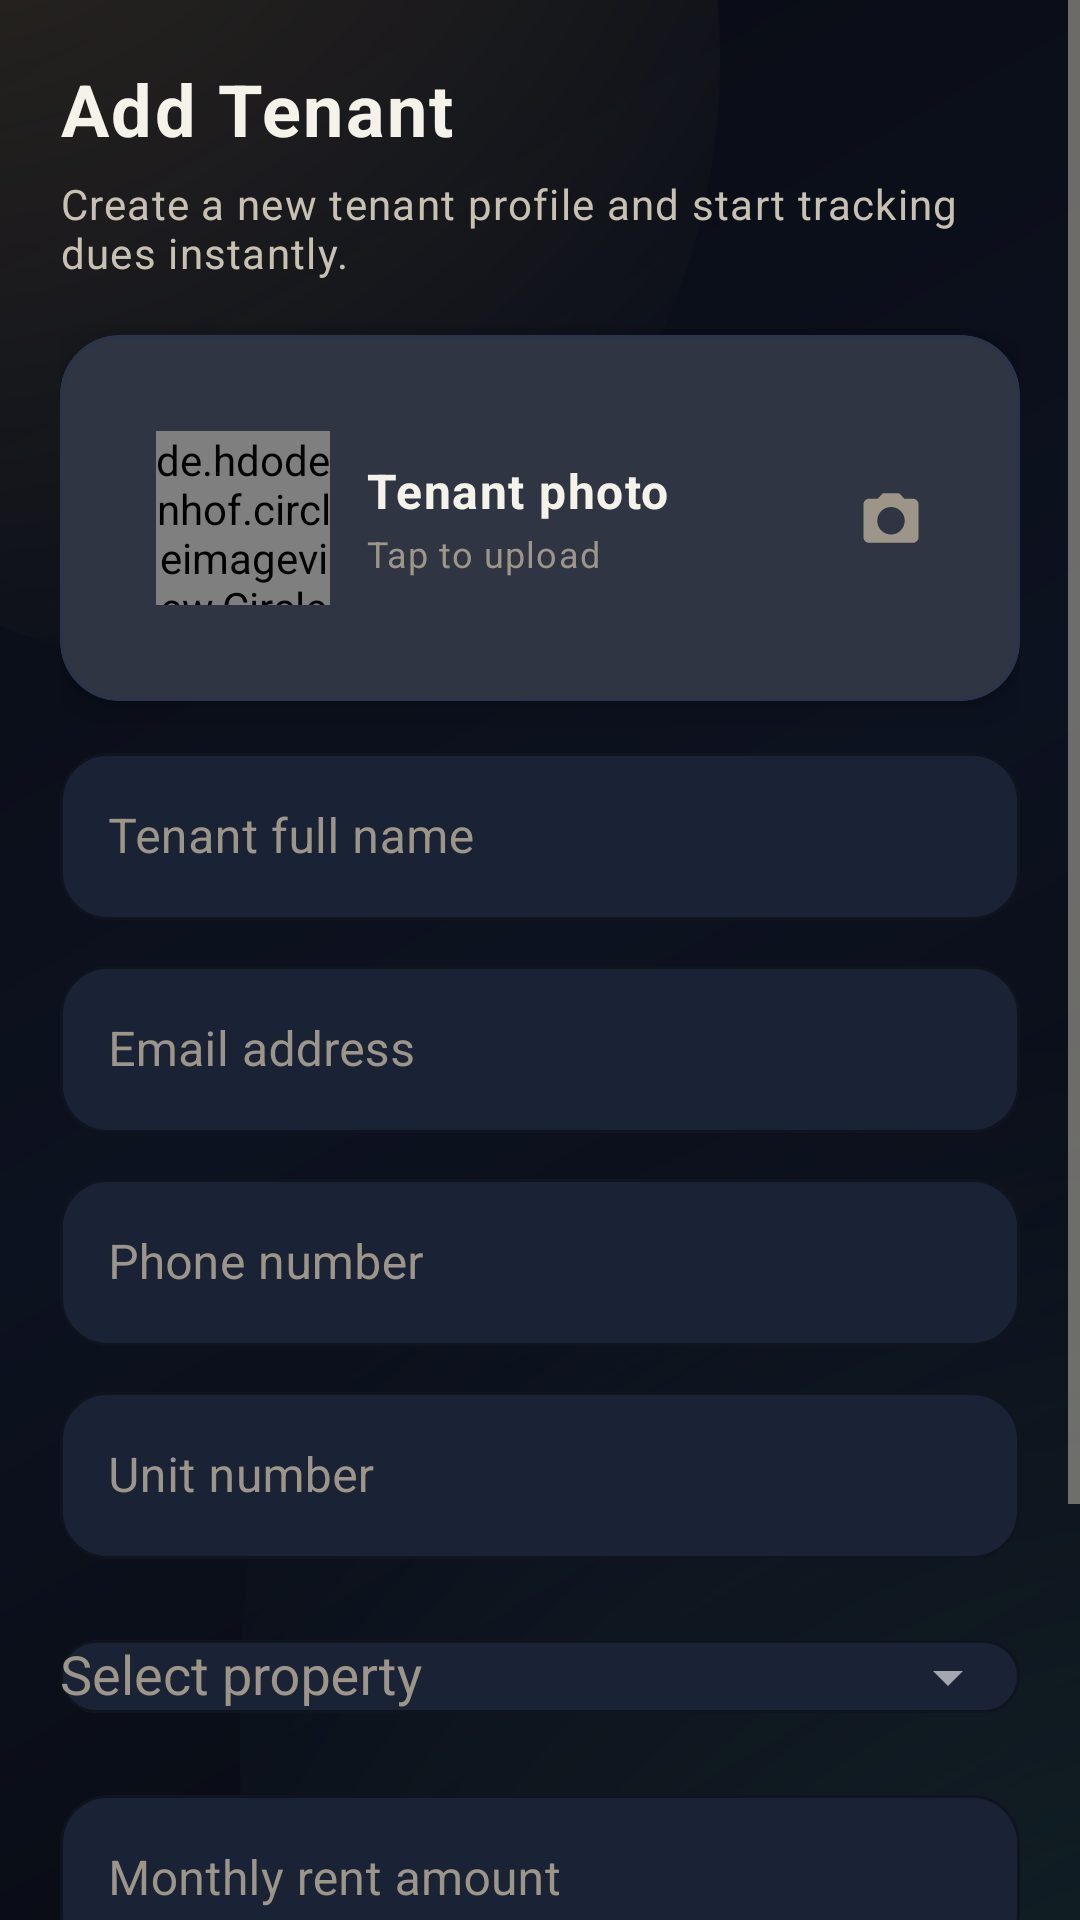

Screen size 1080 x 1920. Icon name, then its box in pixels as (x1, y1, x2, y2):
Select tenant image: (863, 493, 919, 543)
